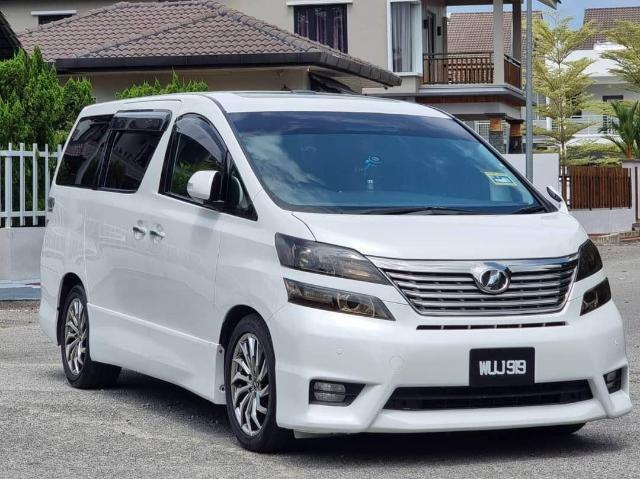License_Plate: (470, 351, 537, 385)
car: (39, 92, 640, 447)
